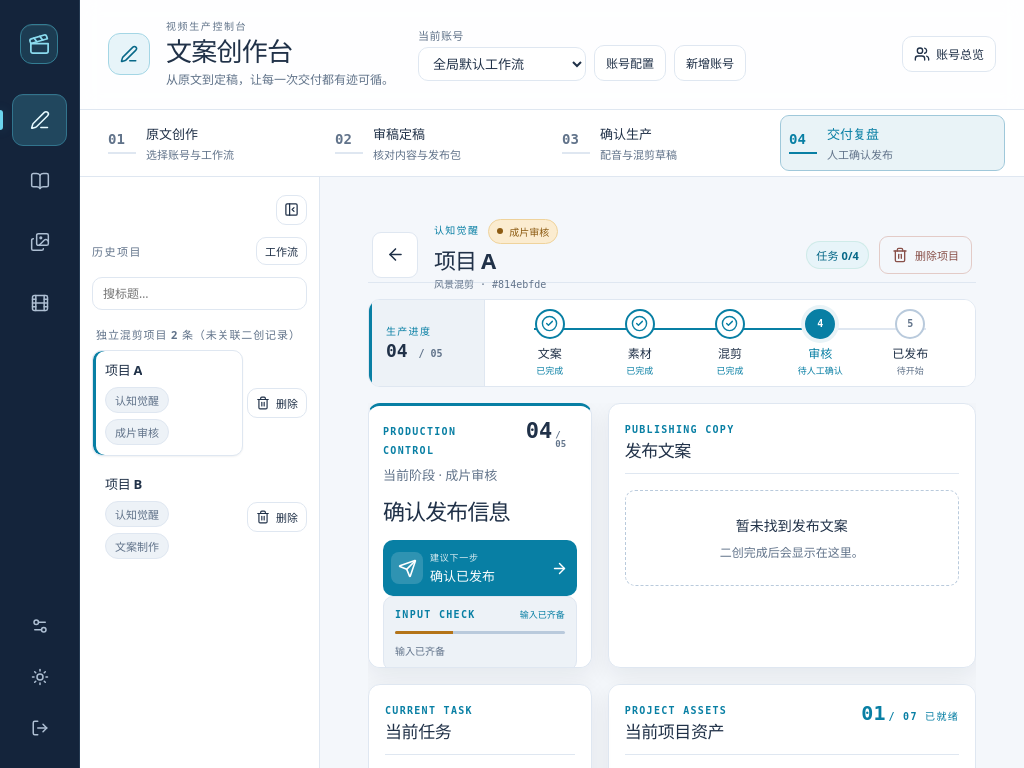
Scenario: does not let a completed project A publish request abort or replace project B
The image size is (1024, 768).
What coordinates should you click on to do the following:
click the button with aria-label "将当前项目标记为已发布"
I would click on:
 (480, 568)
Its box is [383, 540, 577, 596].
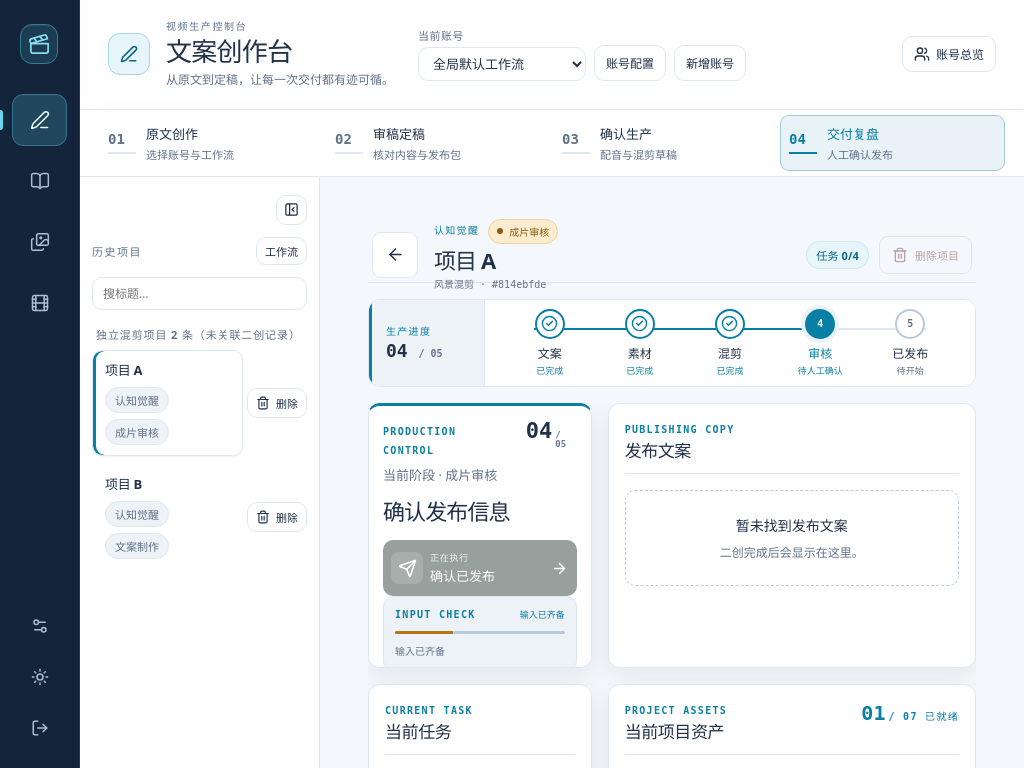
What coordinates should you click on to do the following:
click the button named "返回项目看板"
I would click on:
 (395, 255)
Its box is [372, 232, 418, 278].
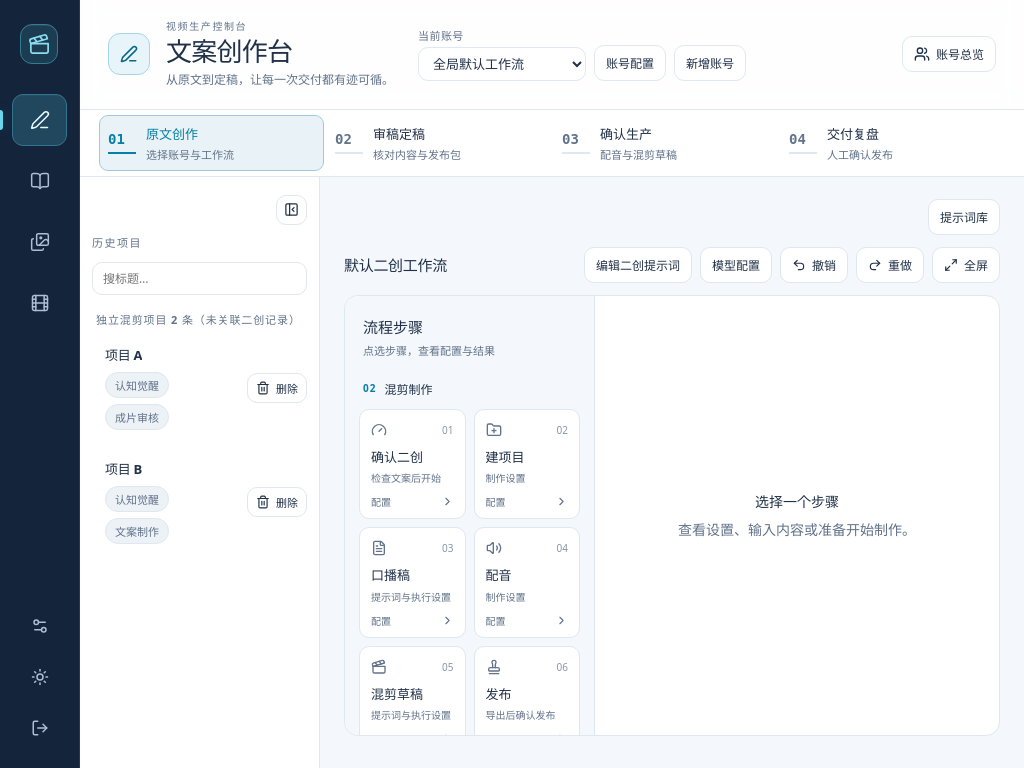
What coordinates should you click on to do the following:
click the text "项目 B"
I would click on:
 (124, 469)
Its box is [105, 460, 142, 478].
(page scrolled)
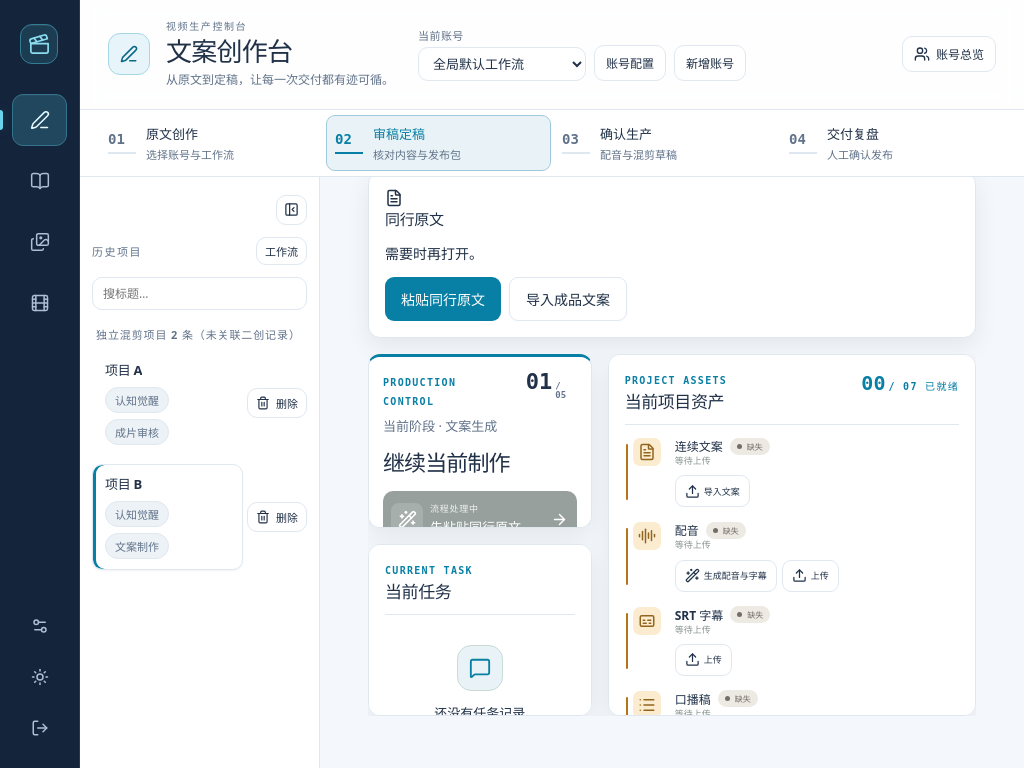
Expected: the element "当前项目资产" is shown, [608, 354, 976, 716]
